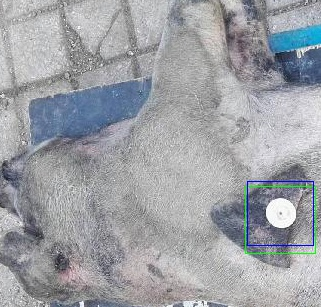text: (245, 186, 315, 253)
